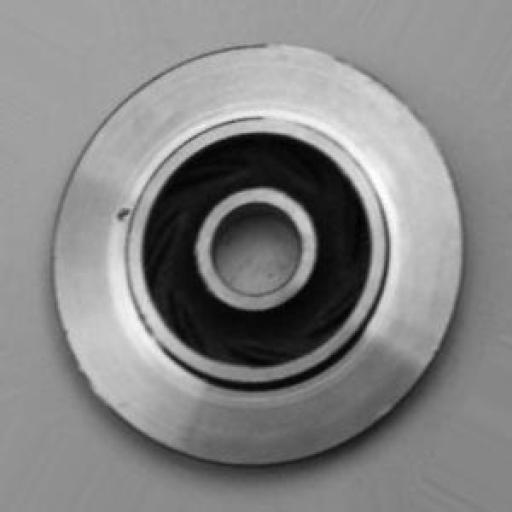defect: (106, 182, 152, 244)
